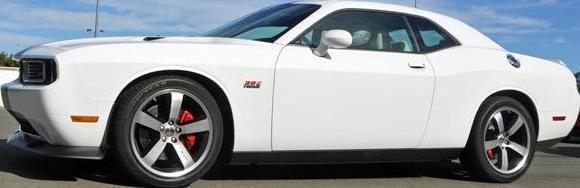headlight: (5, 47, 57, 90)
side_glass: (296, 6, 462, 63)
